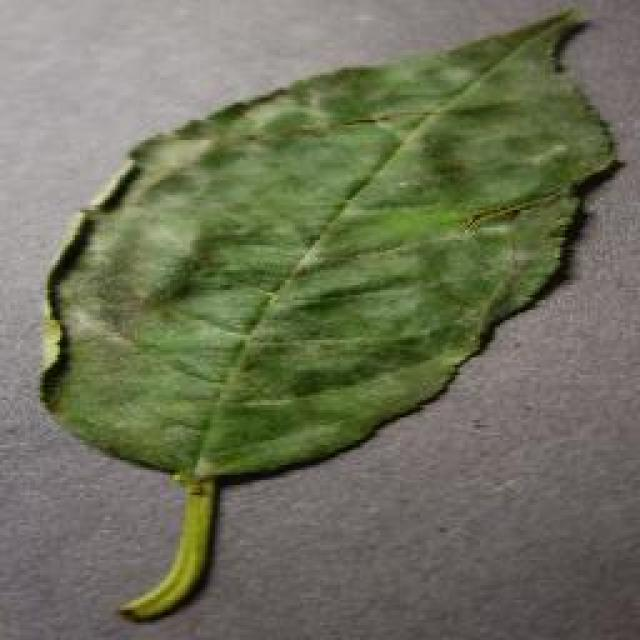Cherry___Powdery_mildew: (22, 5, 632, 637)
